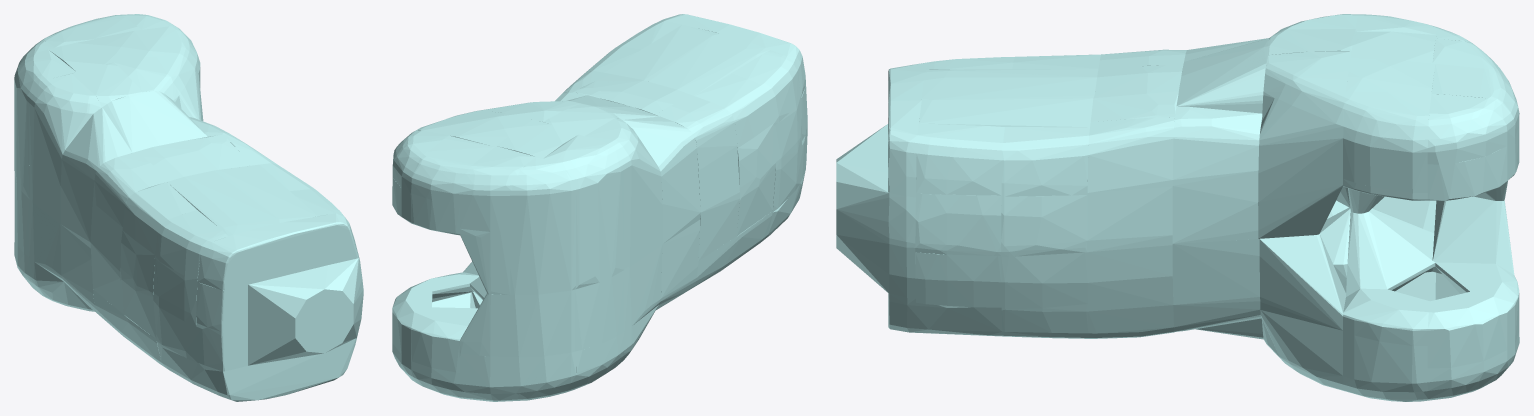
Rendered from R_SHOULDER_Y_LINK_mesh.dae.
3 views of the same model, side by side, from view 1: azimuth 30°, elevation 25°; view 2: azimuth 150°, elevation 25°; view 3: azimuth 270°, elevation 25° (orthographic). The views are drawn at different scales.
Parts seen in each view (by area): view 1: R_SHOULDER_Y_LINK; view 2: R_SHOULDER_Y_LINK; view 3: R_SHOULDER_Y_LINK.
Part boxes in pixels (x1=…): R_SHOULDER_Y_LINK: x1=14, y1=14, x2=363, y2=401; R_SHOULDER_Y_LINK: x1=392, y1=14, x2=807, y2=401; R_SHOULDER_Y_LINK: x1=836, y1=14, x2=1519, y2=401.
Size of the model in its own units: 0.1129 by 0.1306 by 0.2636.
